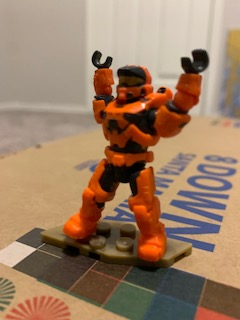spartan: (58, 46, 210, 268)
up: (56, 44, 209, 148)
